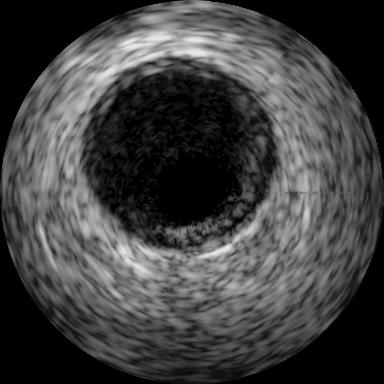Lumen: (151, 147, 234, 221)
